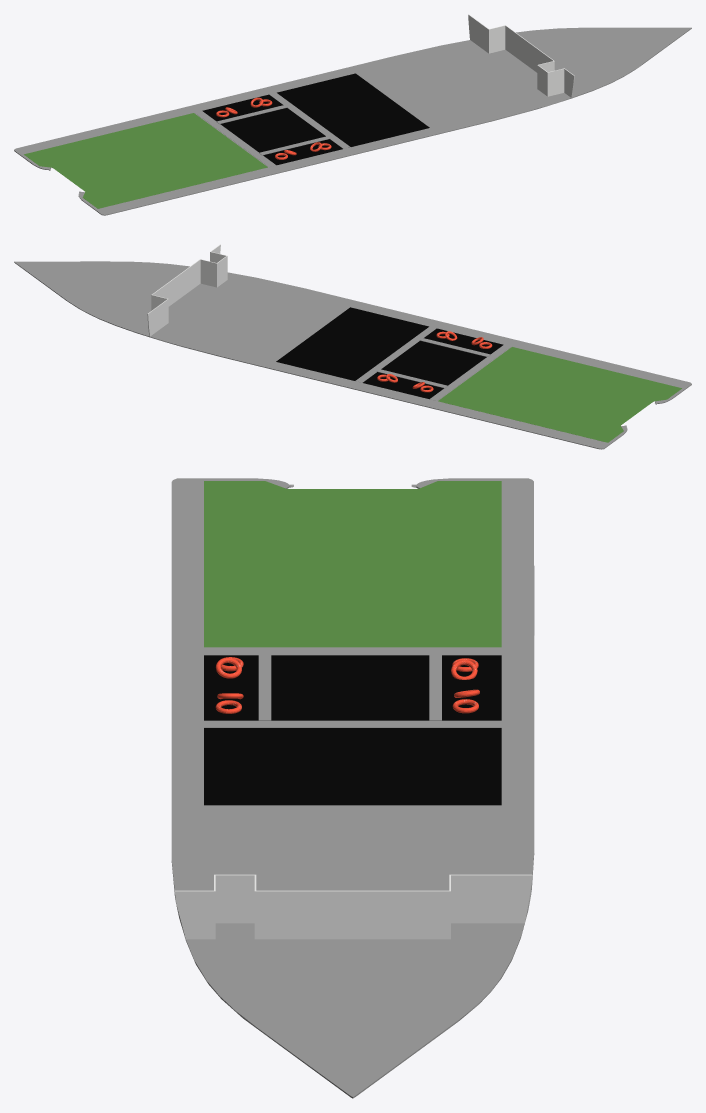
The model's file is main_deck.dae.
The picture shows the model from 3 angles, top to bottom: view 1: azimuth 30°, elevation 25°; view 2: azimuth 150°, elevation 25°; view 3: azimuth 270°, elevation 25°; orthographic projection. The views are drawn at different scales.
Visible parts, largest first — view 1: node8.001, node1.001, node2.004, node0.005, node4.001, node6.004; view 2: node8.001, node1.001, node2.004, node0.005, node4.001, node6.004; view 3: node8.001, node1.001, node2.004, node0.005, node6.004, node4.001, Cube.001.
Part boxes in pixels (left/top/right/bottom): node8.001: left=14, top=27, right=691, bottom=215; node1.001: left=24, top=113, right=267, bottom=208; node2.004: left=202, top=73, right=429, bottom=165; node0.005: left=468, top=14, right=574, bottom=97; node4.001: left=195, top=111, right=275, bottom=166; node6.004: left=269, top=92, right=350, bottom=148; node8.001: left=14, top=261, right=691, bottom=449; node1.001: left=438, top=347, right=681, bottom=442; node2.004: left=276, top=307, right=503, bottom=399; node0.005: left=147, top=244, right=227, bottom=336; node4.001: left=430, top=345, right=510, bottom=400; node6.004: left=355, top=326, right=436, bottom=382; node8.001: left=171, top=478, right=534, bottom=1098; node1.001: left=204, top=481, right=501, bottom=647; node2.004: left=204, top=655, right=501, bottom=805; node0.005: left=174, top=874, right=532, bottom=939; node6.004: left=204, top=720, right=501, bottom=727; node4.001: left=204, top=648, right=501, bottom=655; Cube.001: left=258, top=654, right=271, bottom=720.
Size of the model in its own units: 1.38 by 0.3424 by 0.0529.
